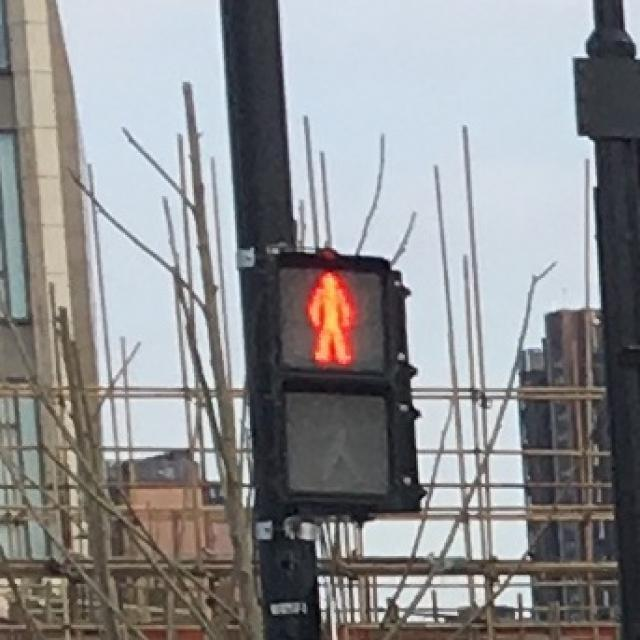red-crossing: (276, 258, 388, 370)
